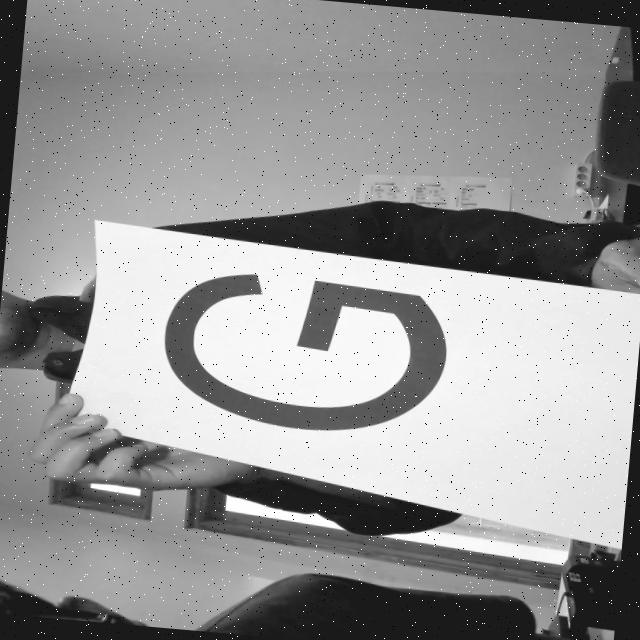g: (146, 246, 466, 444)
